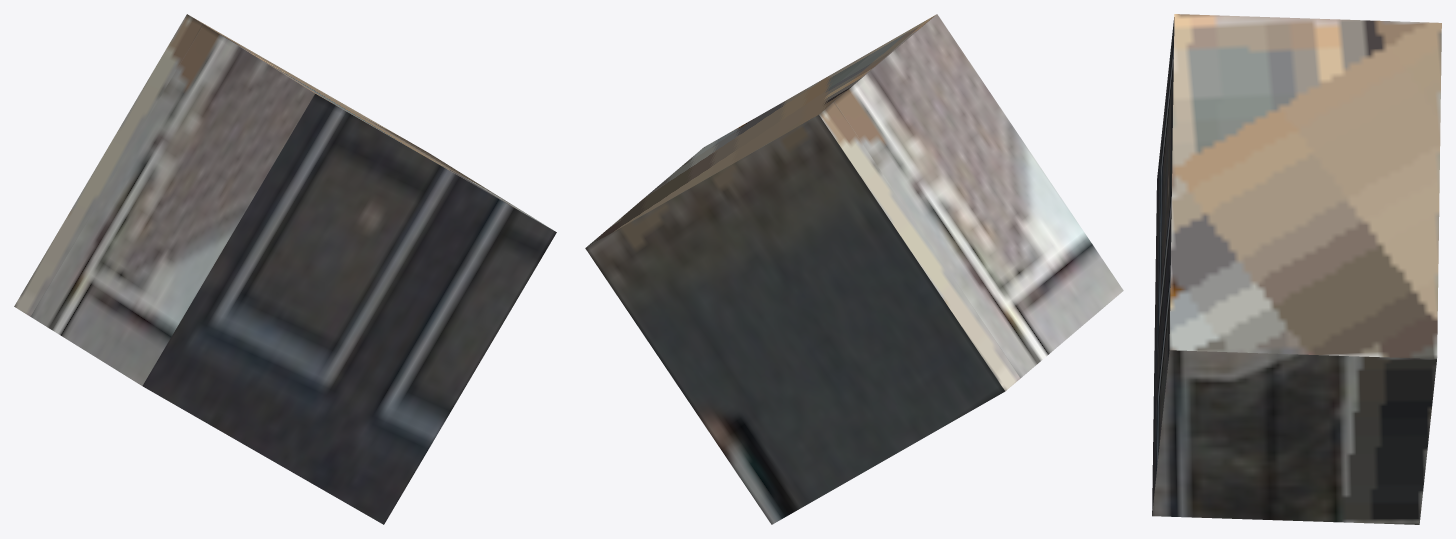
3 views of the same model, side by side, from view 1: azimuth 30°, elevation 25°; view 2: azimuth 150°, elevation 25°; view 3: azimuth 270°, elevation 25° (orthographic). The views are drawn at different scales.
Visible parts, largest first — view 1: BAG_0599100100019941 (×2); view 2: BAG_0599100100019941 (×2); view 3: BAG_0599100100019941.
Part boxes in pixels (x1,y1,x2,y2): BAG_0599100100019941 (×2): (14,14,556,524); BAG_0599100100019941 (×2): (585,14,1123,524); BAG_0599100100019941: (1152,14,1441,524).
Bounding box in the file's own units: 3.44 × 3.47 × 1.89.
Materials: 1 (1 with a texture image).
